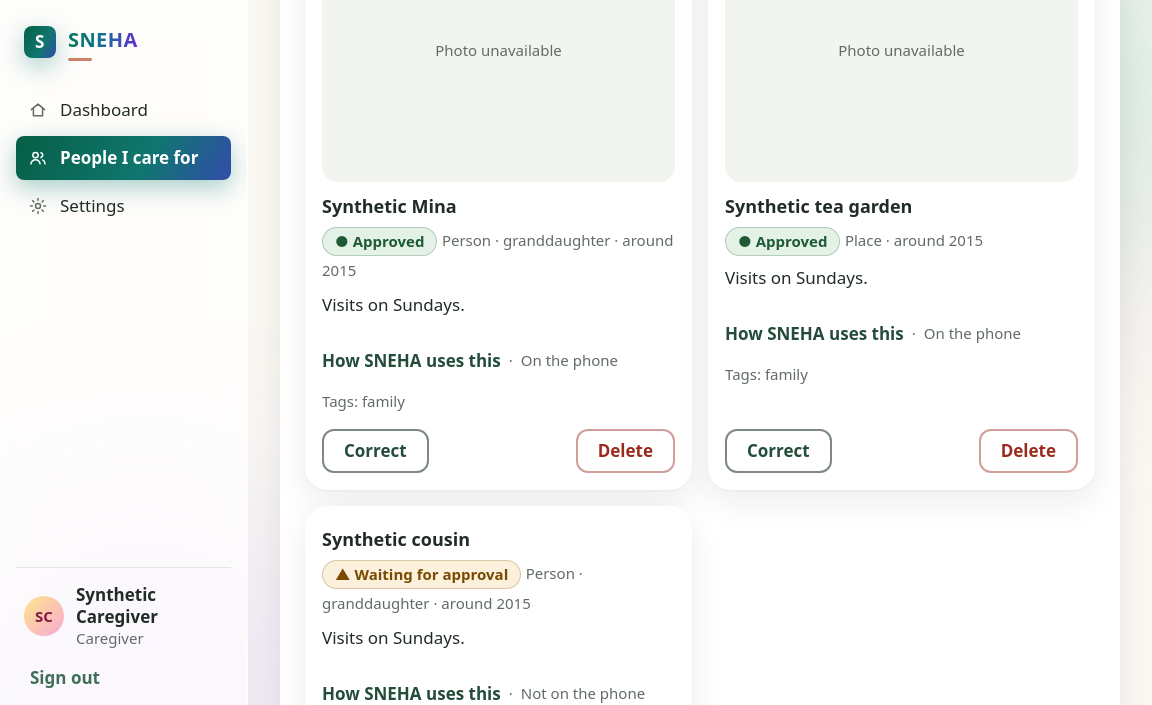
Test: caregiver Memory Bank › explains whether a memory is on the phone and which activities it can feed
The width and height of the screenshot is (1152, 705).
(page scrolled)
Expected: the text "Person · granddaughter · around 2015" below "Synthetic Mina" is shown, [322, 230, 674, 280]
Click the text "How SNEHA uses this" below "Synthetic Mina" at (411, 360), box [322, 347, 501, 374]
(page scrolled)
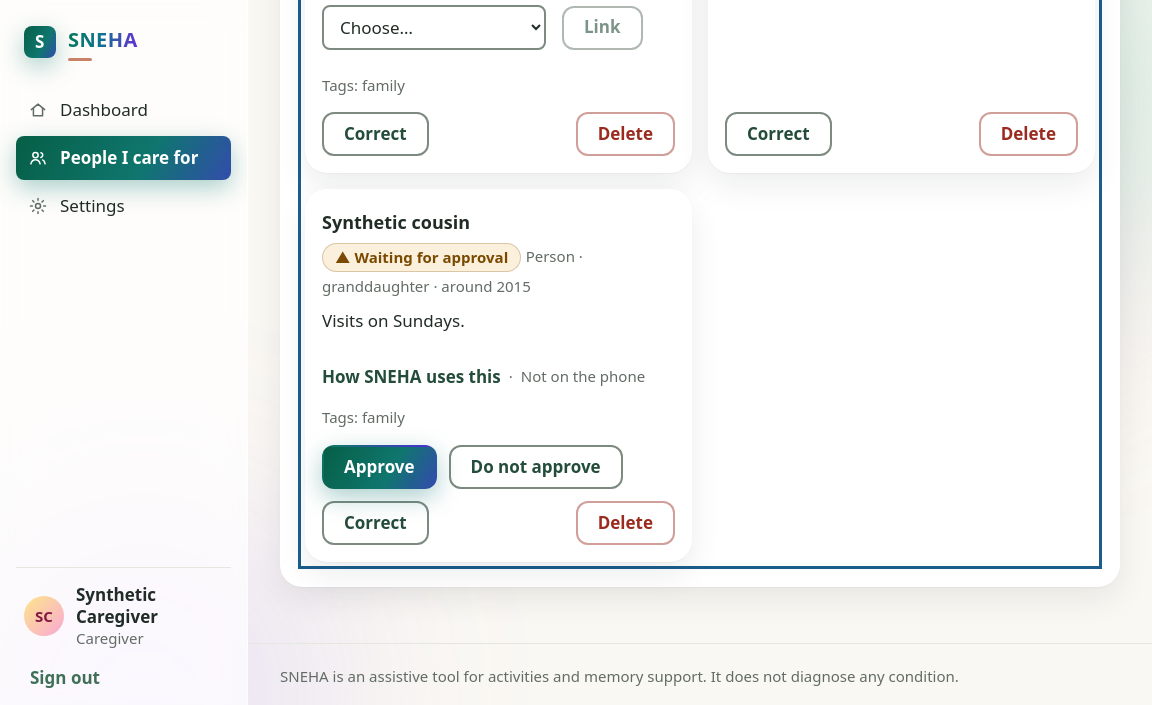
Click the text "How SNEHA uses this" at (411, 377), box [322, 363, 501, 390]
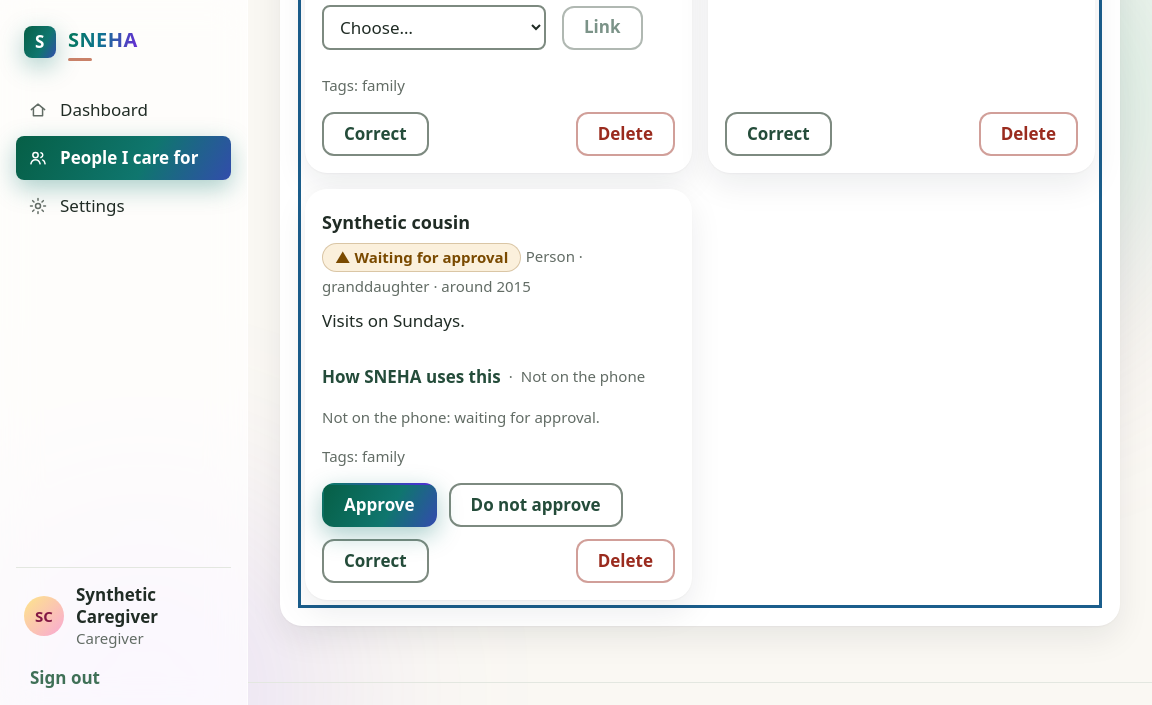
Now the text "Not on the phone: waiting for approval." is shown, box [322, 408, 600, 428]
